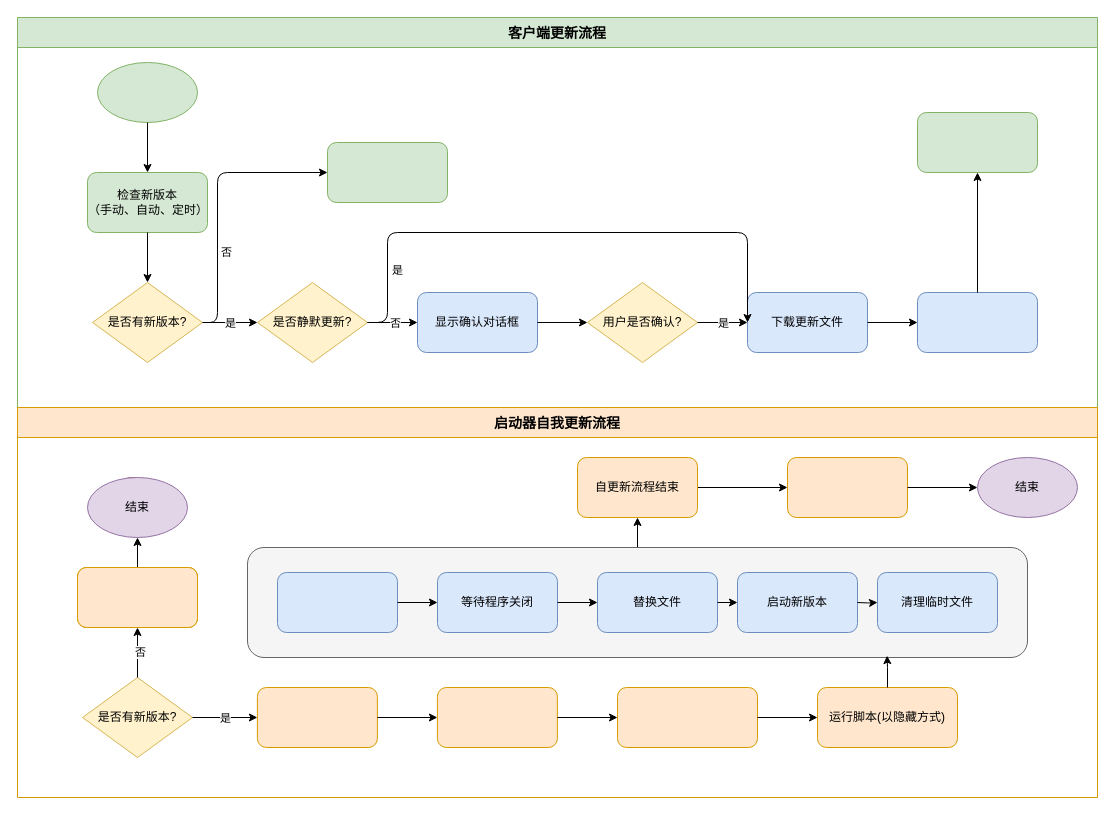
Some shapes in this 1115 by 815 pixel diagram are drawn without their labels. Here are the shapes that lost their labels. From the top down, the centre of each, then its label:
At point (147, 92): "开始".
At point (977, 142): "客户端更新完成".
At point (387, 172): "检查启动器更新".
At point (977, 322): "解压新版本".
At point (847, 487): "启动器更新完成".
At point (137, 597): "退出启动器更新".
At point (337, 602): "停止进程守护".
At point (316, 717): "下载启动器更新文件".
At point (496, 717): "解压启动器新版本".
At point (687, 717): "生成自更新批处理脚本".
